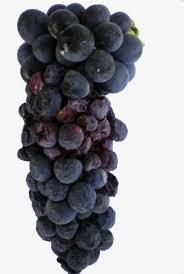Grape Rotten: (16, 3, 144, 274)
